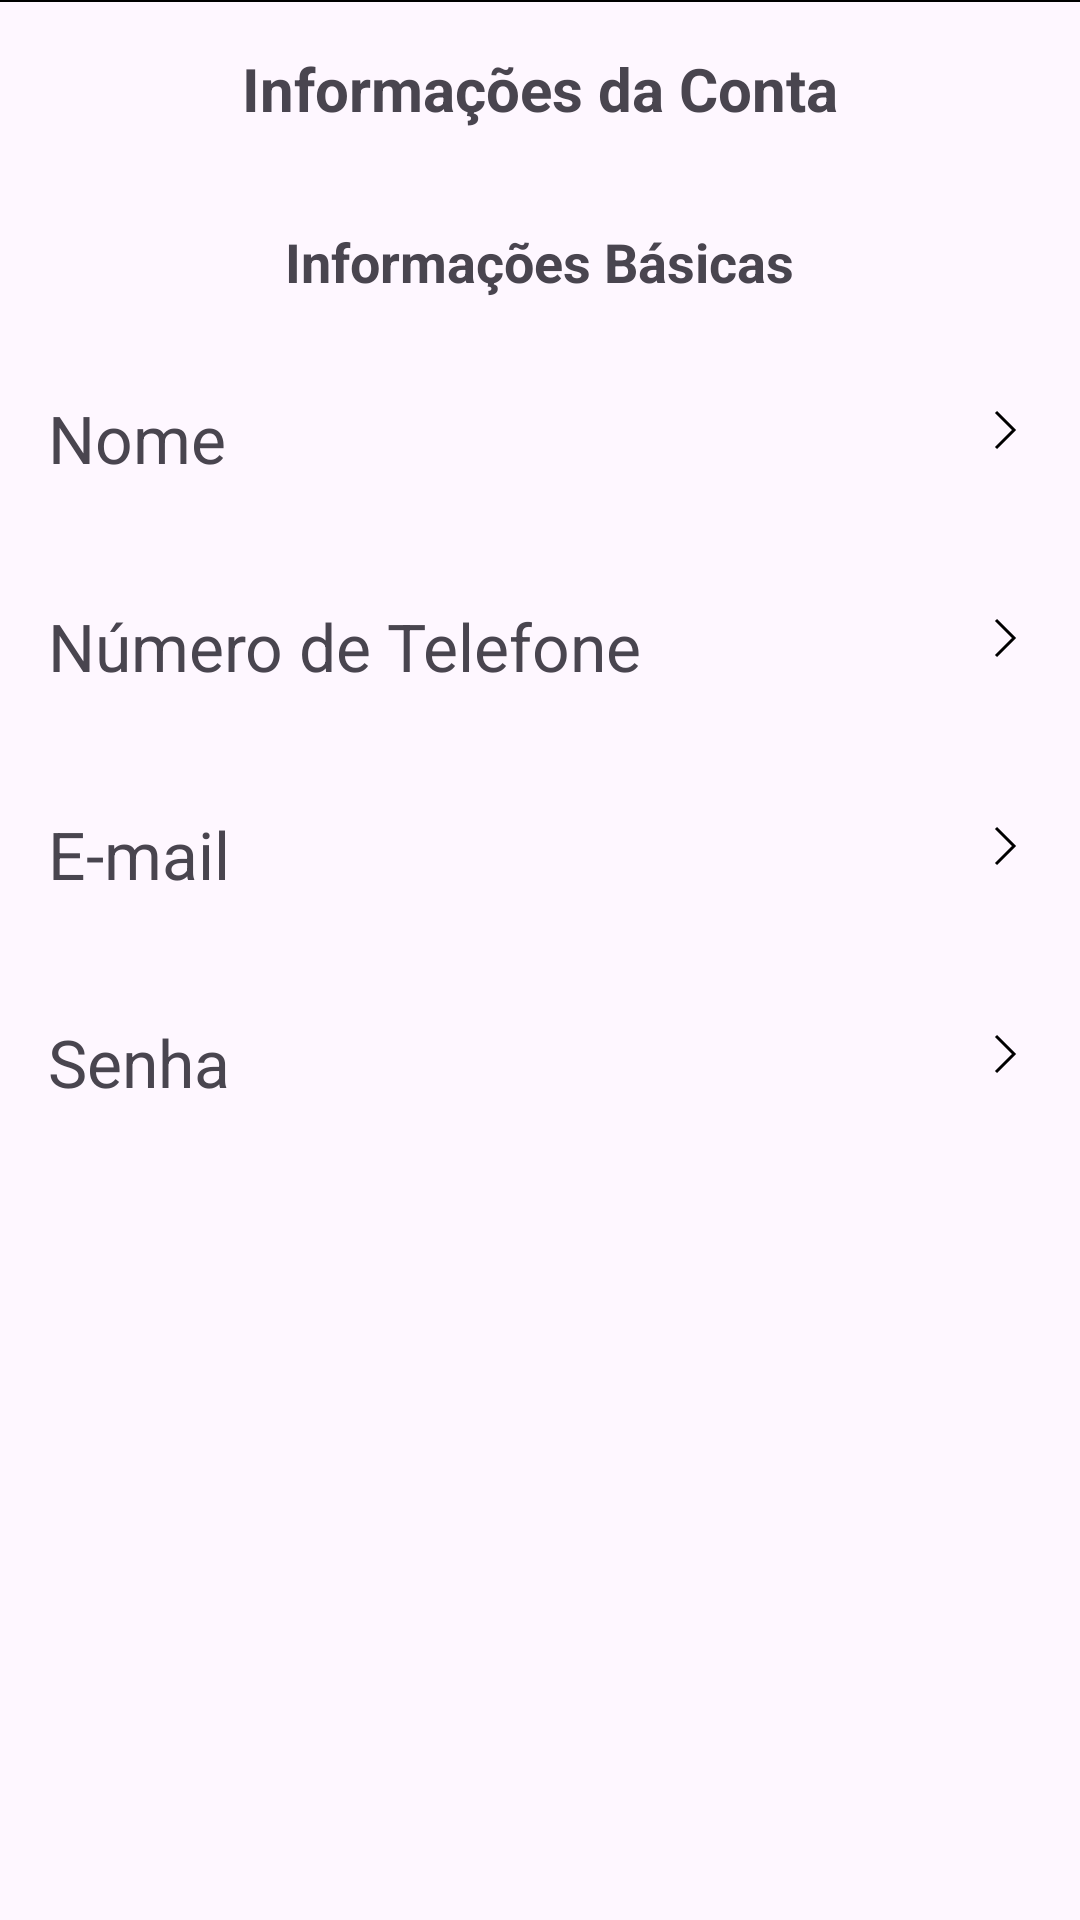

Screen size 1080w x 1920h. Icon name, then its center in pixels as [x,y]:
Seta para a próxima tela: [1005,430], [1005,638], [1005,846], [1005,1054]
